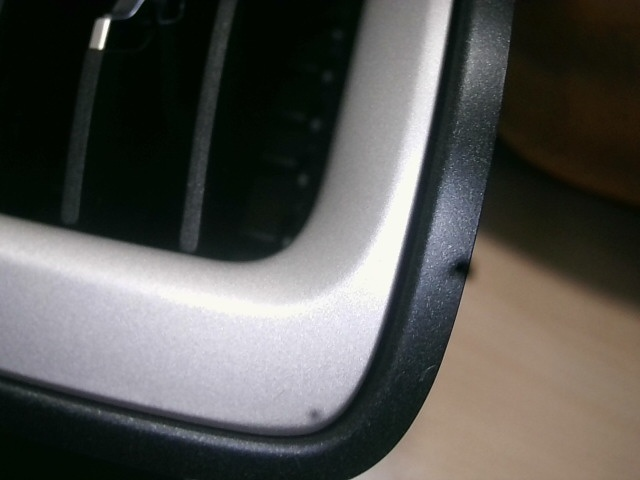NG: (269, 387, 297, 405), (415, 360, 439, 380)
